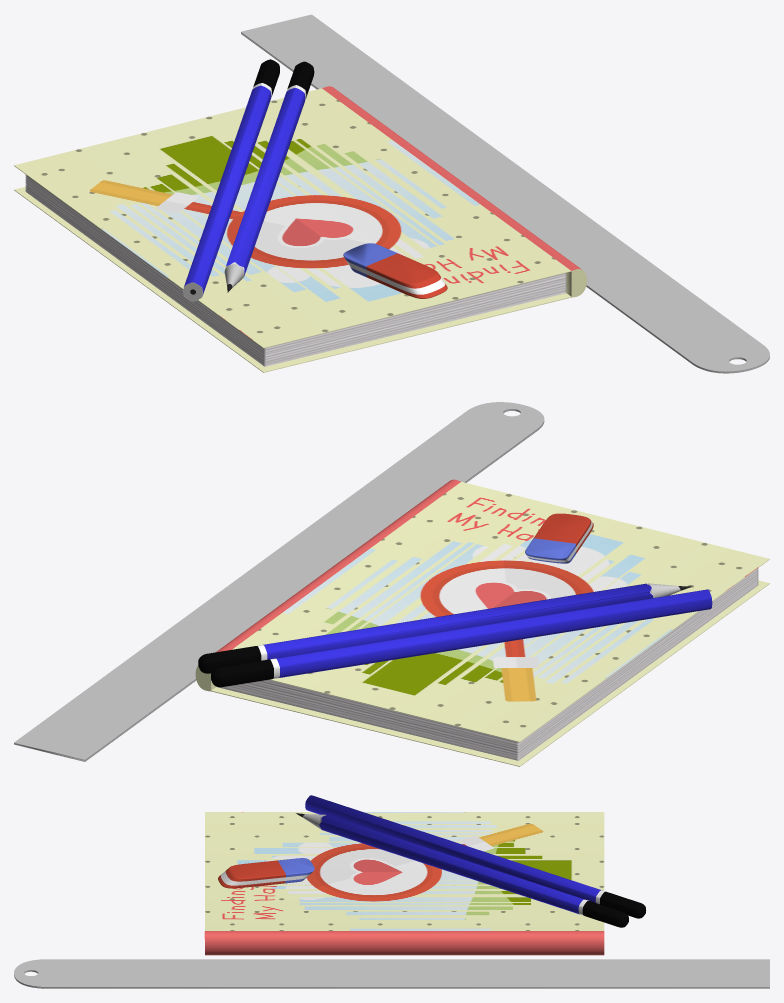
Rendered from uploads_files_1006227_Package.fbx.
3 renders of one model, top to bottom at view 1: azimuth 30°, elevation 25°; view 2: azimuth 150°, elevation 25°; view 3: azimuth 270°, elevation 25°, orthographic. The views are drawn at different scales.
Visible parts, largest first — view 1: Book_Book3.002, Ruler_Cylinder.002, Pencil1_Cylinder.000, Pencil2_Cylinder.001, Eraser_Cube.001; view 2: Book_Book3.002, Ruler_Cylinder.002, Pencil1_Cylinder.000, Pencil2_Cylinder.001, Eraser_Cube.001; view 3: Book_Book3.002, Ruler_Cylinder.002, Pencil2_Cylinder.001, Pencil1_Cylinder.000, Eraser_Cube.001.
Boxes of the visible parts, bbox=[...] form: Book_Book3.002: bbox=[14, 86, 586, 372]; Ruler_Cylinder.002: bbox=[241, 14, 769, 373]; Pencil1_Cylinder.000: bbox=[183, 59, 279, 301]; Pencil2_Cylinder.001: bbox=[224, 61, 314, 292]; Eraser_Cube.001: bbox=[343, 243, 447, 298]; Book_Book3.002: bbox=[195, 479, 769, 766]; Ruler_Cylinder.002: bbox=[14, 402, 544, 761]; Pencil1_Cylinder.000: bbox=[211, 589, 712, 687]; Pencil2_Cylinder.001: bbox=[198, 583, 691, 673]; Eraser_Cube.001: bbox=[525, 513, 593, 563]; Book_Book3.002: bbox=[204, 812, 604, 955]; Ruler_Cylinder.002: bbox=[14, 959, 769, 988]; Pencil2_Cylinder.001: bbox=[296, 813, 628, 927]; Pencil1_Cylinder.000: bbox=[305, 795, 646, 918]; Eraser_Cube.001: bbox=[218, 858, 314, 888].
Size of the model in its own units: 739 by 80.74 by 1466.
